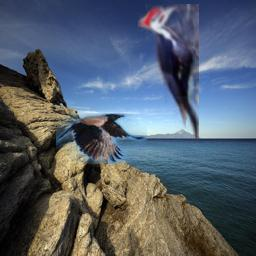Crow: (56, 113, 147, 164)
Woodpecker: (138, 4, 199, 140)
